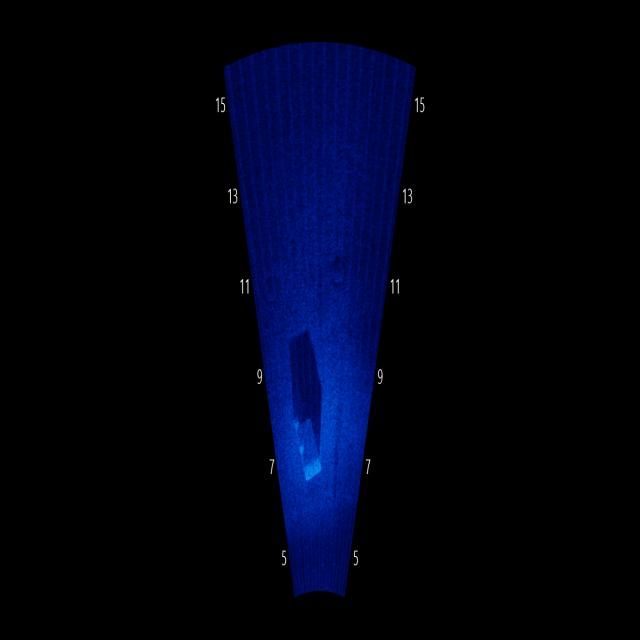square: (286, 379, 334, 497)
